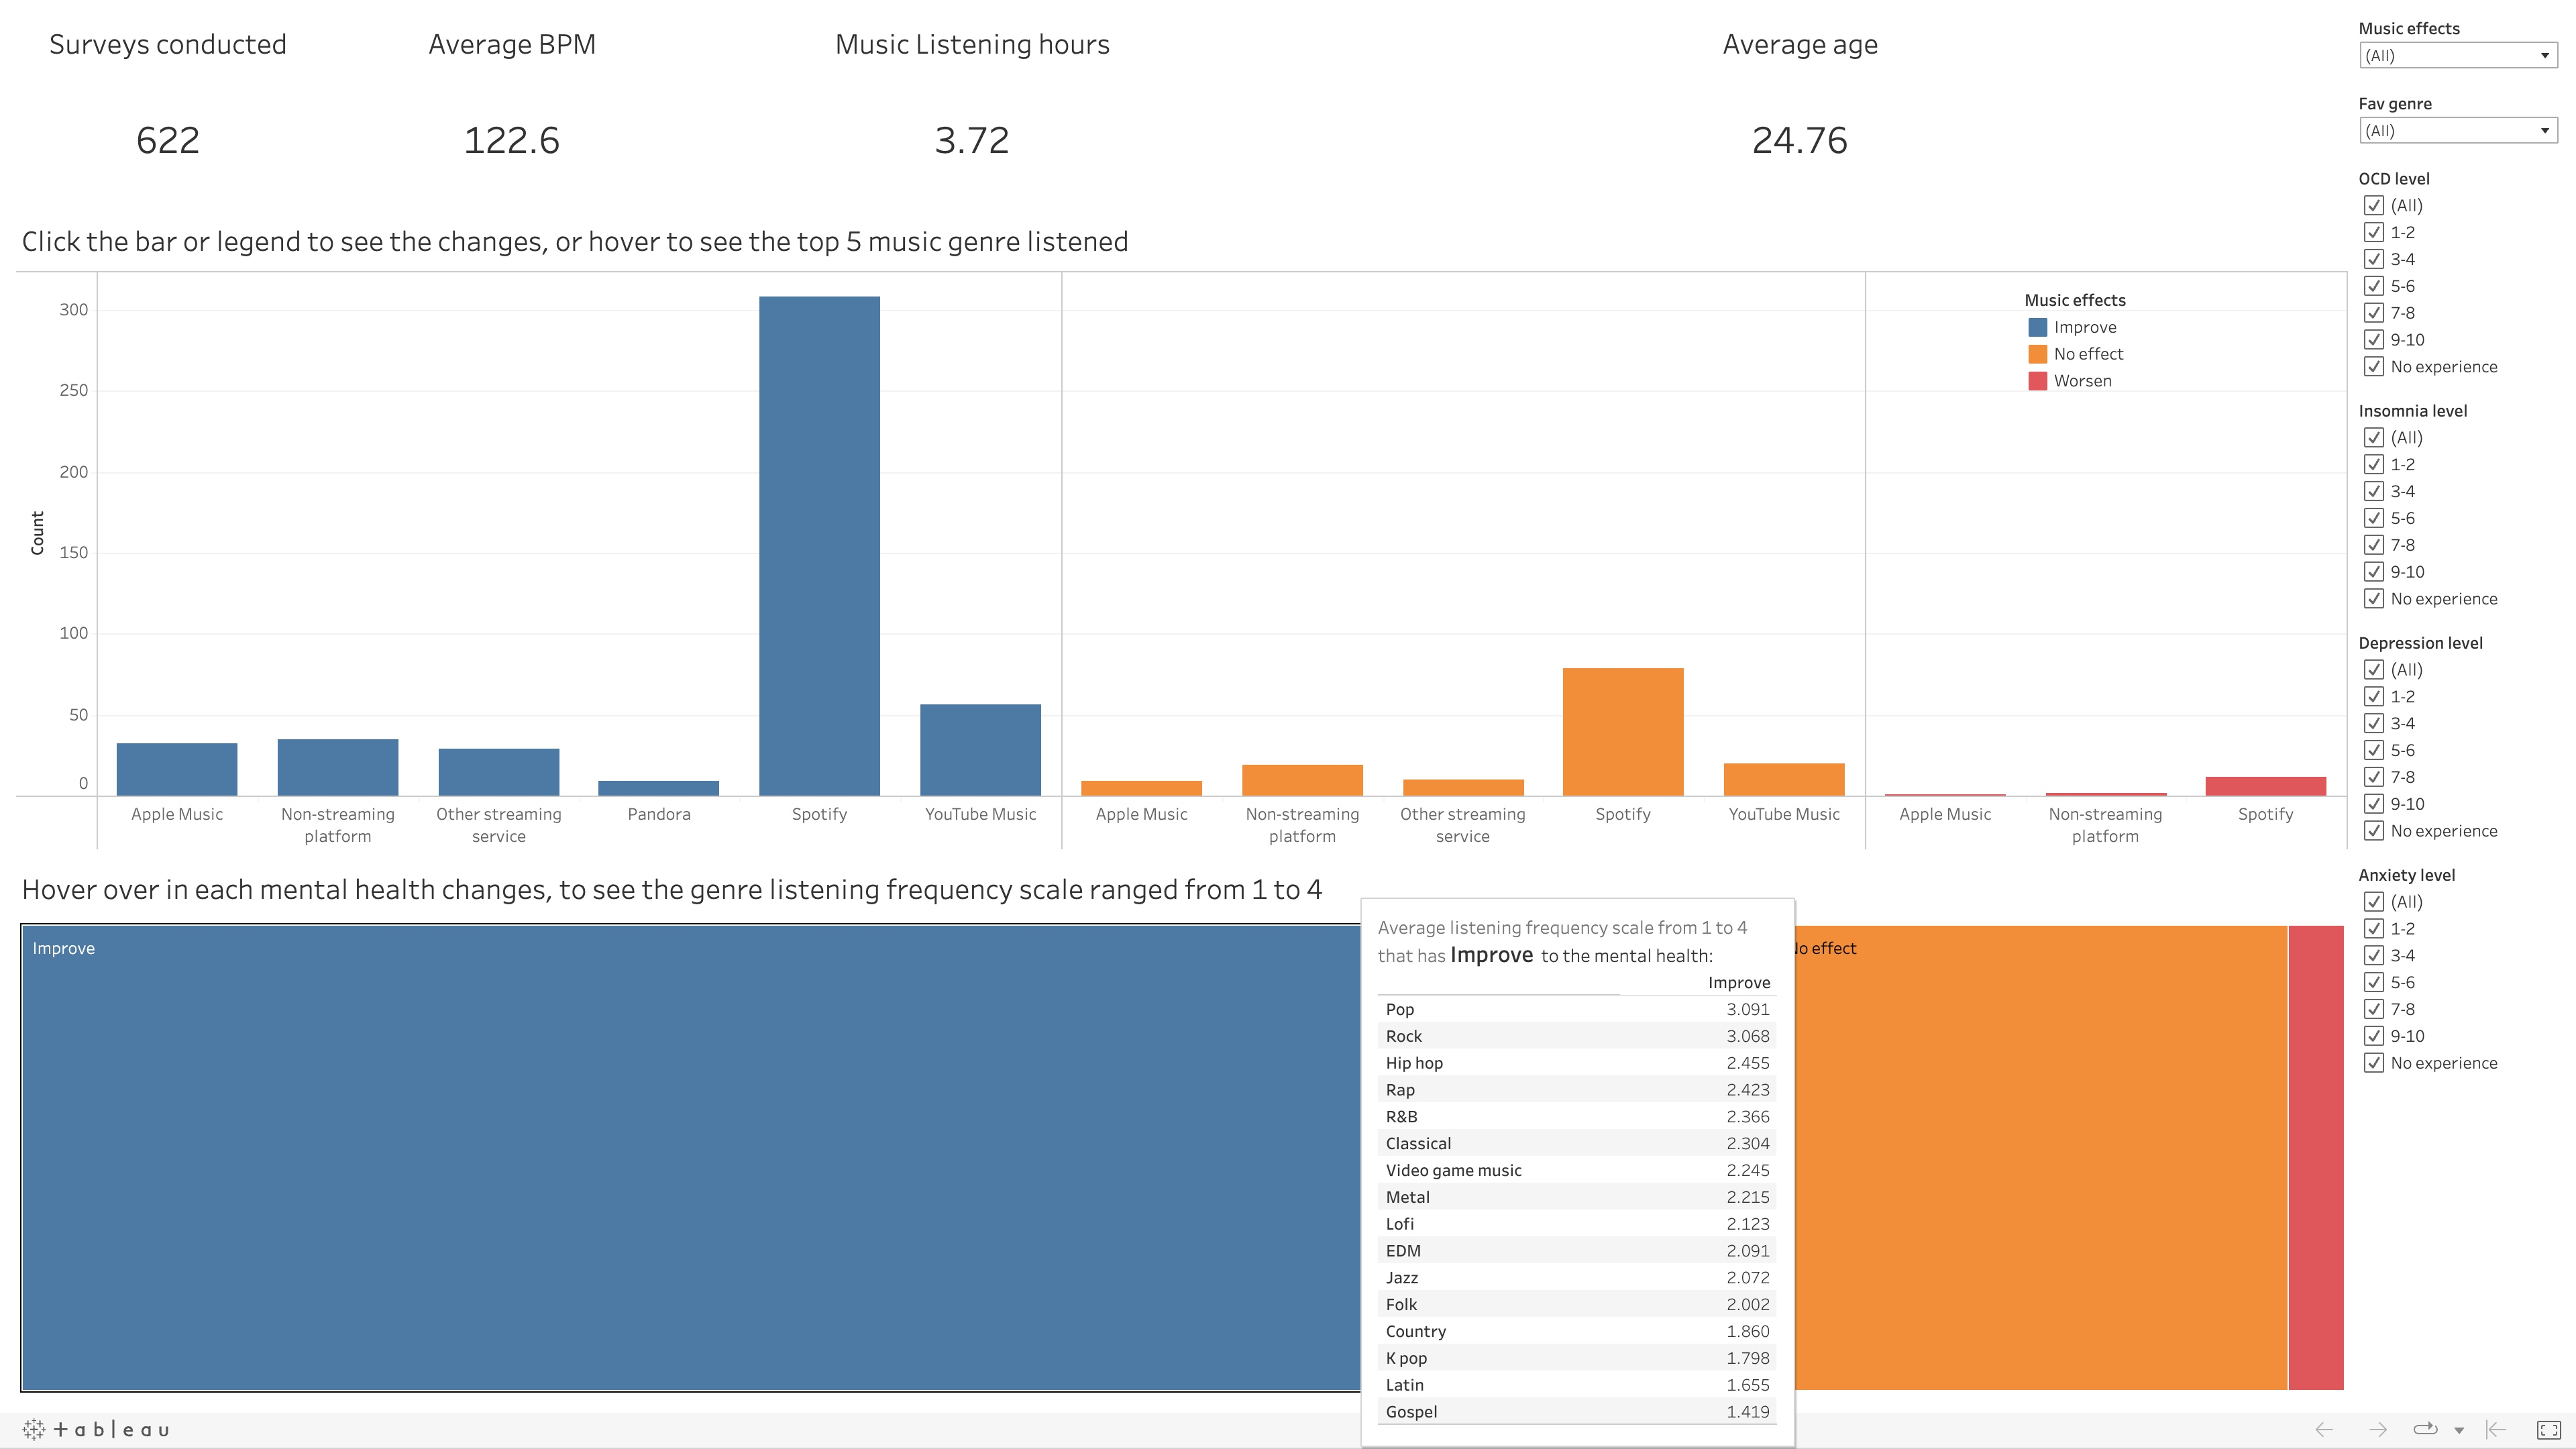

The dashboard page shown, as its layout file describes it:
{"tool":"tableau","page":{"name":"Music dashboard","canvas":[1000,1000],"units":"permille","ordinal":0},"visuals":[{"type":"worksheet","title":"Surveys conducted","mark":"Automatic","box":[3.5,6.3,102.3,140.3]},{"type":"worksheet","title":"Average BPM","mark":"Automatic","box":[105.8,6.3,121,140.3]},{"type":"worksheet","title":"Music Listening hours","mark":"Automatic","box":[226.8,6.3,177.6,140.3]},{"type":"worksheet","title":"Average age","mark":"Automatic","box":[404.4,6.3,510,140.3]},{"type":"filter","title":"Listening frequency in each effect section","param":"[federated.1oci5pb0qlg0t219j3f3d1bt4whb].[none:Music effects:nk]","box":[914.4,6.3,82.1,48]},{"type":"filter","title":"Listening platform","param":"[federated.1oci5pb0qlg0t219j3f3d1bt4whb].[none:Fav genre:nk]","box":[914.4,54.3,82.1,48]},{"type":"filter","title":"Listening frequency in each effect section","param":"[federated.1oci5pb0qlg0t219j3f3d1bt4whb].[none:Calculation_859624622874152964:nk","box":[914.4,102.3,82.1,155]},{"type":"worksheet","title":"Listening platform","mark":"Automatic","rows":["Primary streaming service"],"cols":["Music effects","Primary streaming service"],"box":[3.5,146.6,910.9,459.1]},{"type":"legend","title":"Listening platform","param":"[federated.1oci5pb0qlg0t219j3f3d1bt4whb].[none:Music effects:nk]","box":[857.6,203,50.9,107]},{"type":"filter","title":"Listening frequency in each effect section","param":"[federated.1oci5pb0qlg0t219j3f3d1bt4whb].[none:Calculation_859624622873759747:nk","box":[914.4,257.3,82.1,155]},{"type":"filter","title":"Listening frequency in each effect section","param":"[federated.1oci5pb0qlg0t219j3f3d1bt4whb].[none:Calculation_859624622873341953:nk","box":[914.4,412.2,82.1,155]},{"type":"filter","title":"Listening frequency in each effect section","param":"[federated.1oci5pb0qlg0t219j3f3d1bt4whb].[none:Calculation_859624622870994944:nk","box":[914.4,567.2,82.1,155]},{"type":"worksheet","title":"Listening frequency in each effect section","mark":"Automatic","box":[3.5,605.7,910.9,388]}]}

Visuals, with their boxes on the dashboard's canvas, which has no fixed pixel size, in thousandths of its width and height (x1, y1, x2, y2). These are canvas units, not pixel positions in the 2576x1449 screenshot, which may show the page scaled, cropped or inside an application window:
"Surveys conducted" worksheet: (4, 6, 106, 147)
"Average BPM" worksheet: (106, 6, 227, 147)
"Music Listening hours" worksheet: (227, 6, 404, 147)
"Average age" worksheet: (404, 6, 914, 147)
"Listening frequency in each effect section" filter: (914, 6, 996, 54)
"Listening platform" filter: (914, 54, 996, 102)
"Listening frequency in each effect section" filter: (914, 102, 996, 257)
"Listening platform" worksheet: (4, 147, 914, 606)
"Listening platform" legend: (858, 203, 908, 310)
"Listening frequency in each effect section" filter: (914, 257, 996, 412)
"Listening frequency in each effect section" filter: (914, 412, 996, 567)
"Listening frequency in each effect section" filter: (914, 567, 996, 722)
"Listening frequency in each effect section" worksheet: (4, 606, 914, 994)
